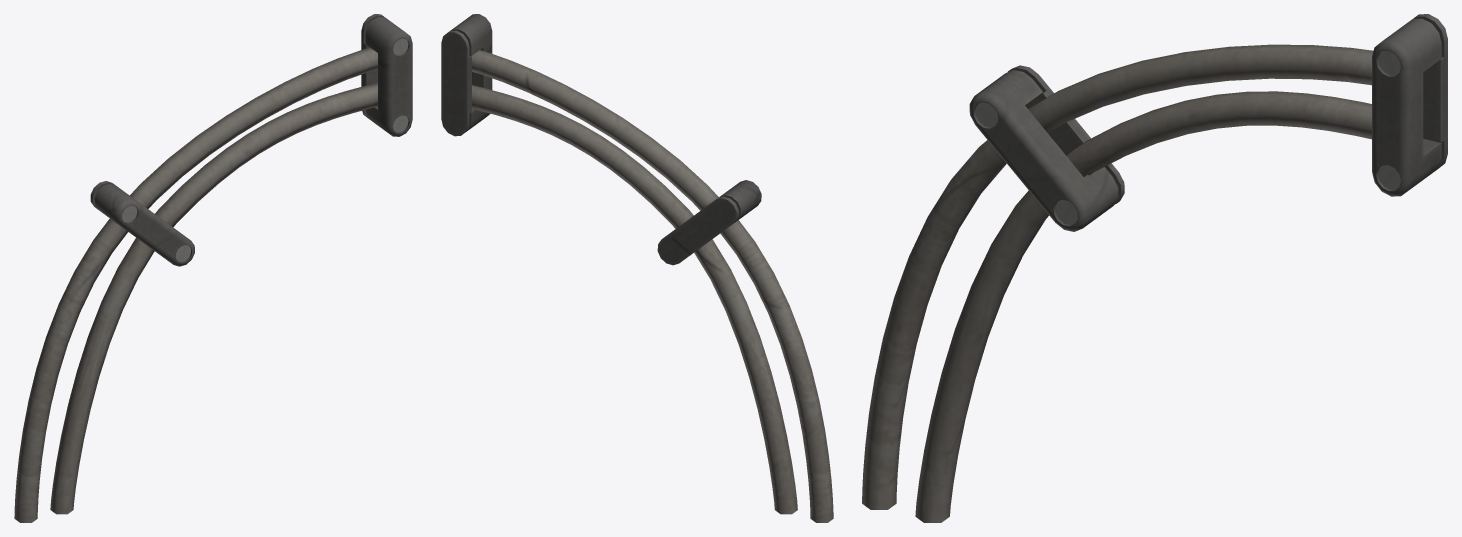
File: cable_cable_double_turn_long.fbx
3 renders of one model, left to right at view 1: azimuth 30°, elevation 25°; view 2: azimuth 150°, elevation 25°; view 3: azimuth 330°, elevation 25°, orthographic. The views are drawn at different scales.
Visible parts, largest first — view 1: modular_electric_cables__cable_double_turn_long; view 2: modular_electric_cables__cable_double_turn_long; view 3: modular_electric_cables__cable_double_turn_long.
Part boxes in pixels (bbox=[...]): modular_electric_cables__cable_double_turn_long: bbox=[14, 14, 412, 522]; modular_electric_cables__cable_double_turn_long: bbox=[441, 14, 833, 522]; modular_electric_cables__cable_double_turn_long: bbox=[862, 14, 1447, 522].
Bounding box in the file's own units: 0.212 × 0.2178 × 0.0259.
